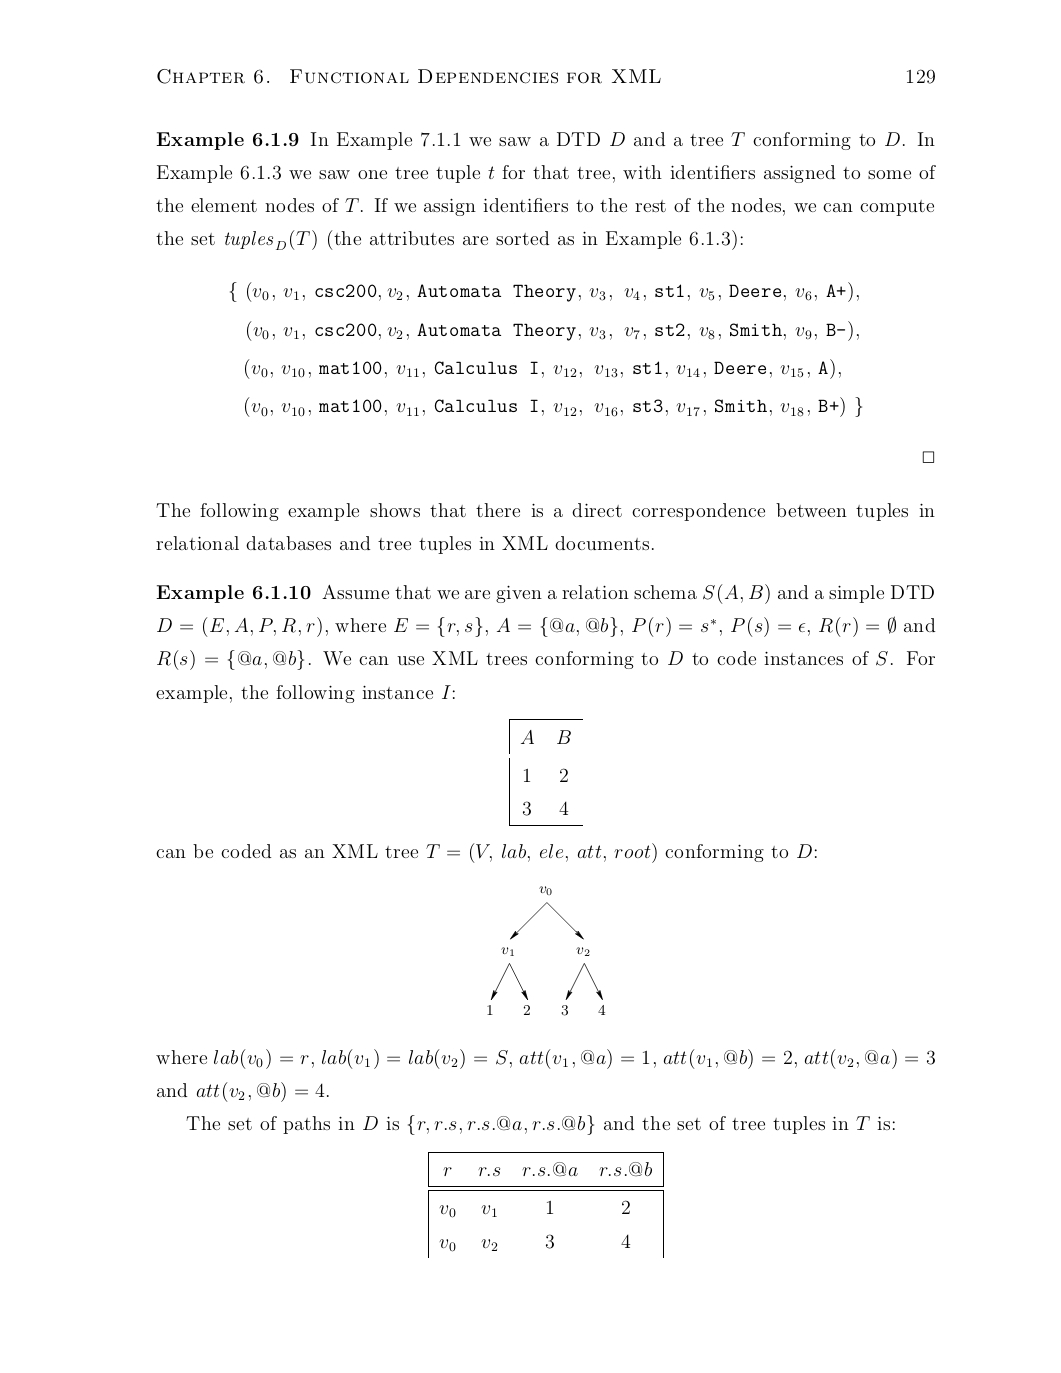Table: (428, 1151, 663, 1258)
figure: (487, 886, 605, 1015), (509, 719, 582, 825)
formula: (228, 281, 858, 302), (245, 396, 862, 417), (247, 320, 858, 341), (245, 358, 840, 379)
